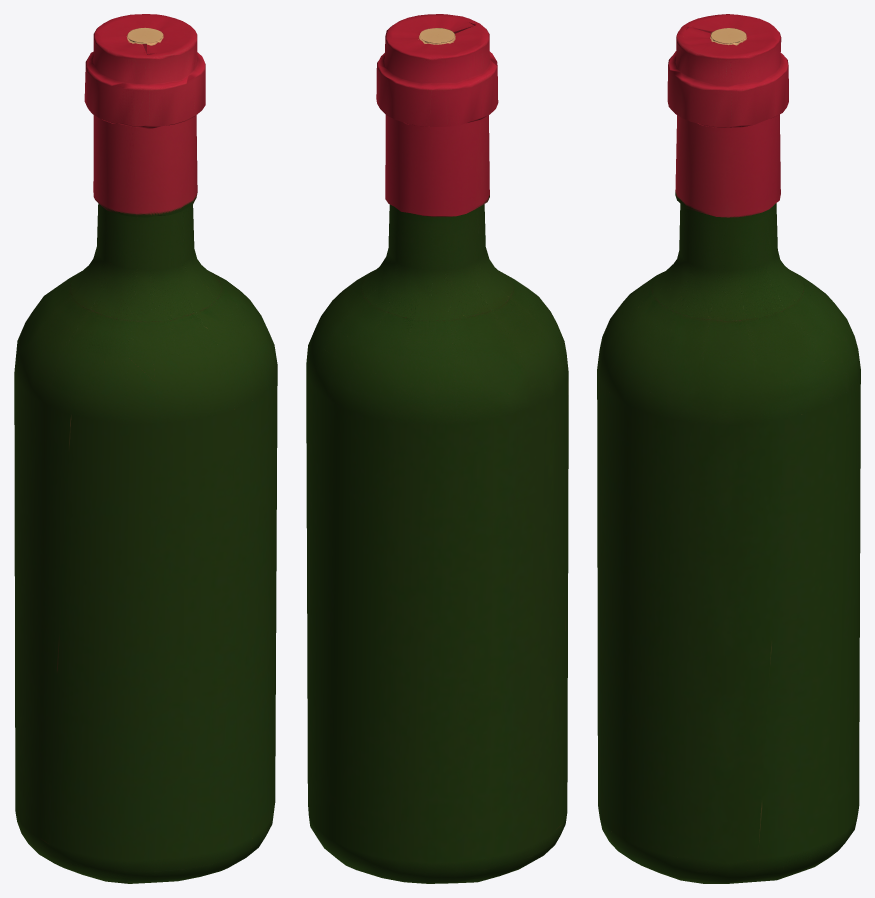
File: empty_bottle.glb
3 renders of one model, left to right at view 1: azimuth 30°, elevation 25°; view 2: azimuth 150°, elevation 25°; view 3: azimuth 270°, elevation 25°, orthographic.
Bounding box in the file's own units: 0.2988 × 1 × 0.2979.
1 material, 1 textured.
